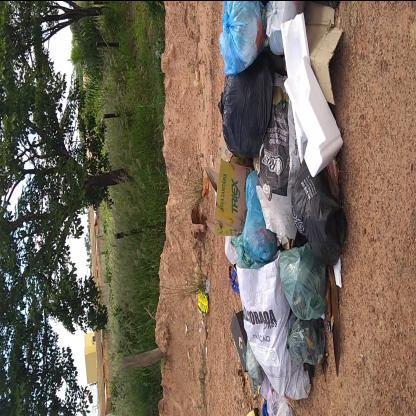lixo: (220, 0, 340, 390)
